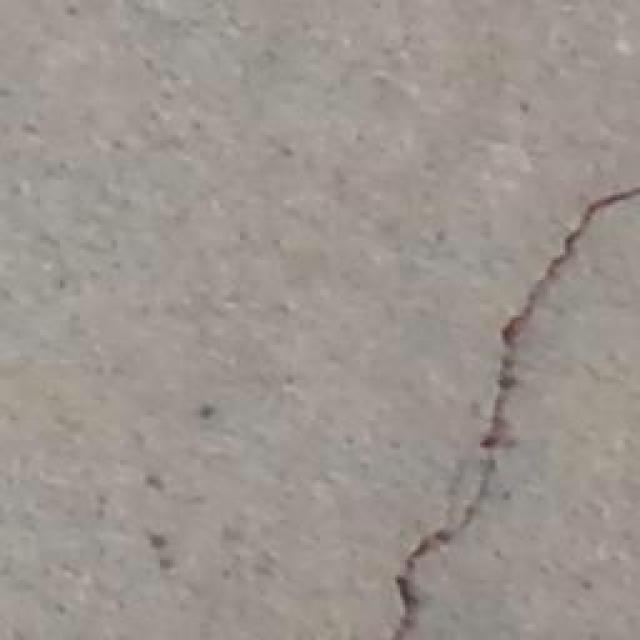concrete-crack: (395, 185, 640, 640)
